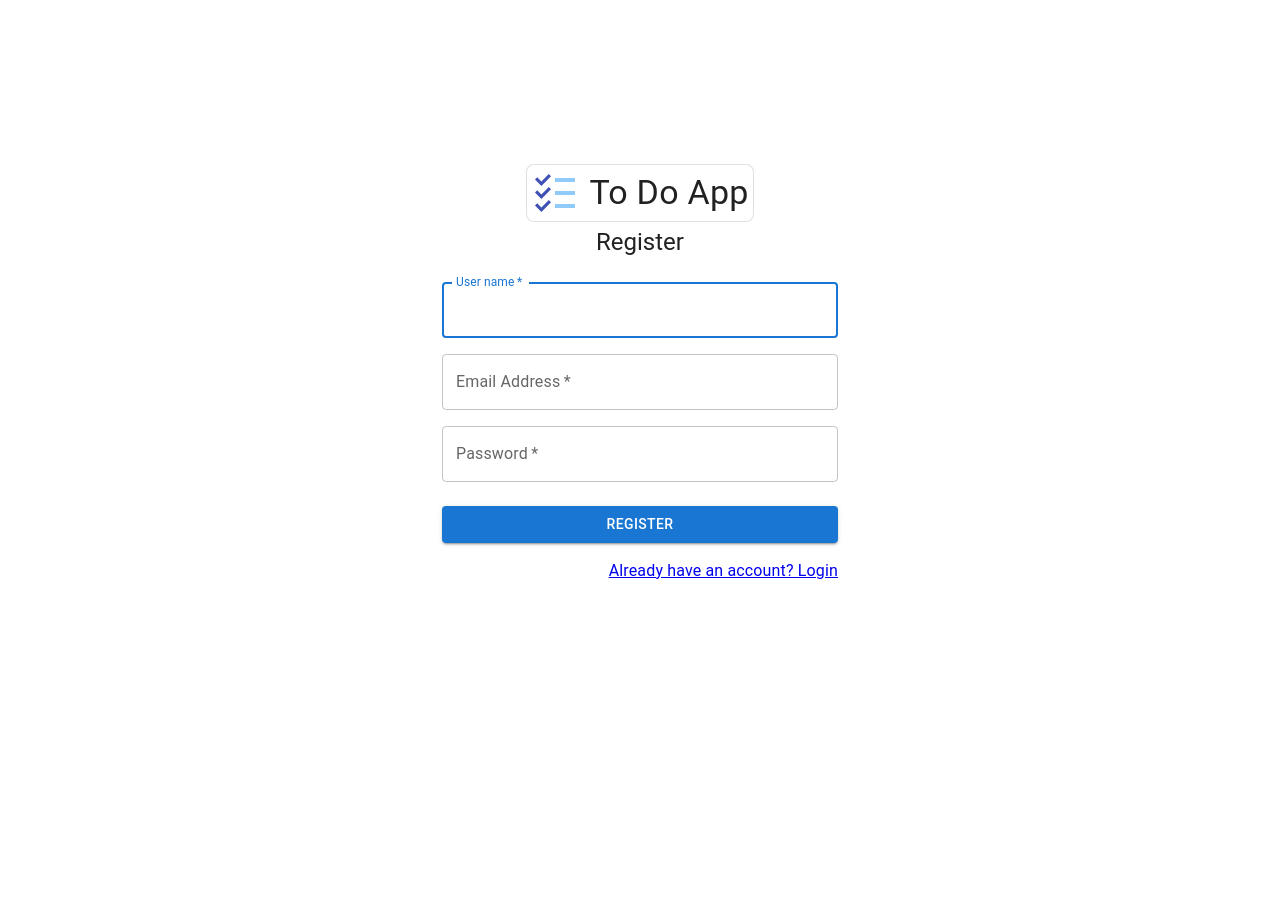
Test: Register Component › should show success message on successful registration
Type "testuser" into the field labelled "User name *" at (640, 310), box x1=442 y1=282 x2=838 y2=338
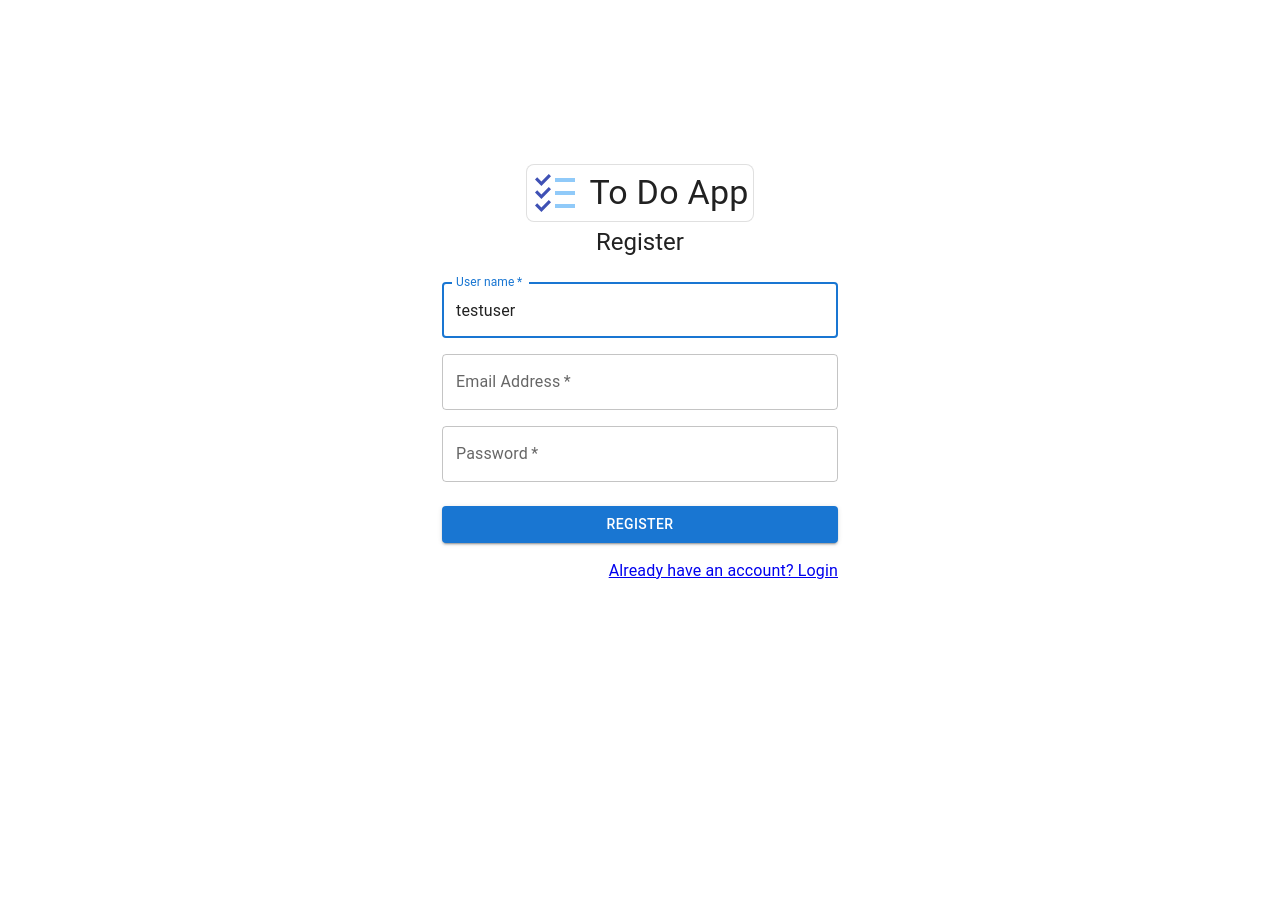
Type "test@example.com" into the field labelled "Email Address *" at (640, 382), box x1=442 y1=354 x2=838 y2=410
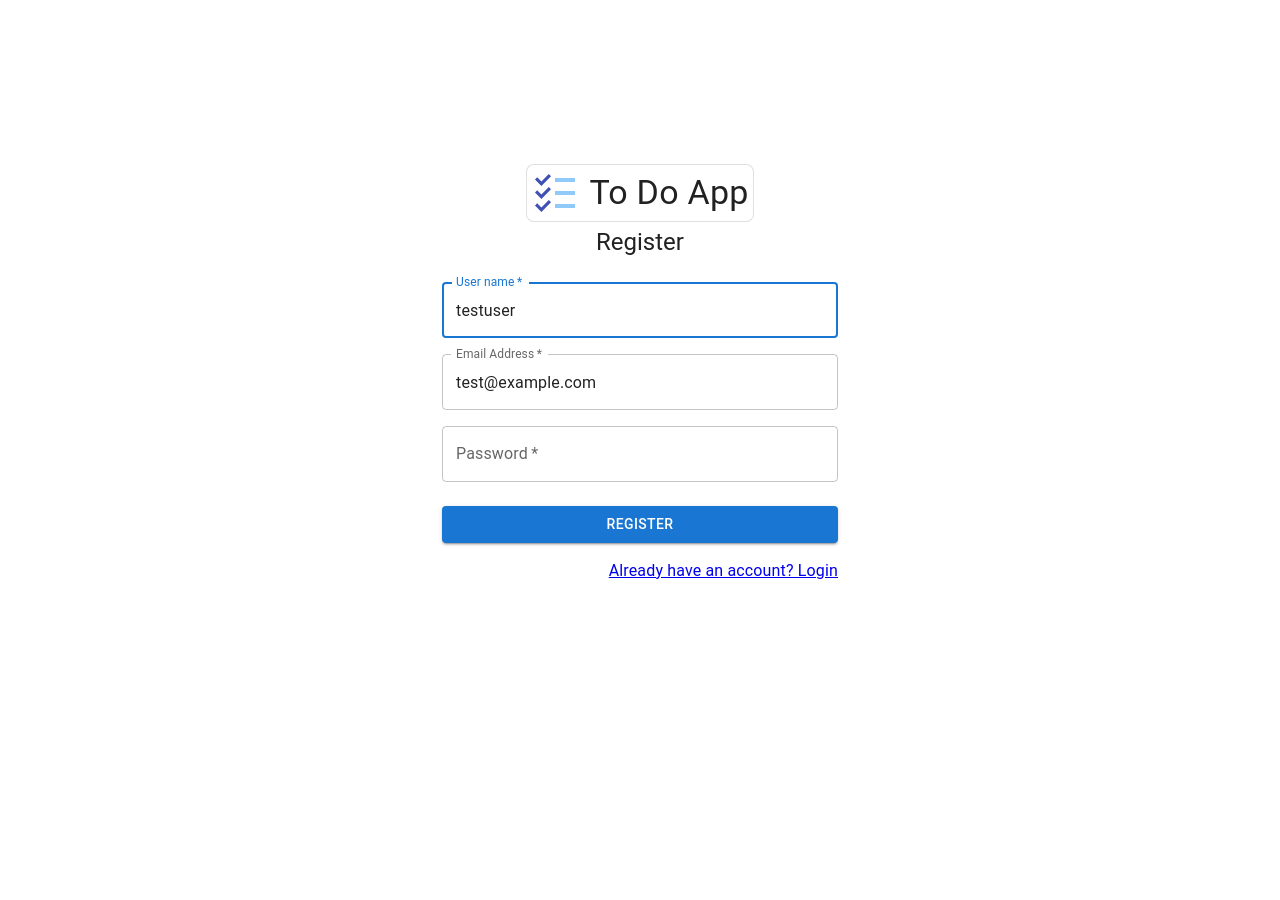
Type "password" into the password field labelled "Password *" at (640, 454), box x1=442 y1=426 x2=838 y2=482
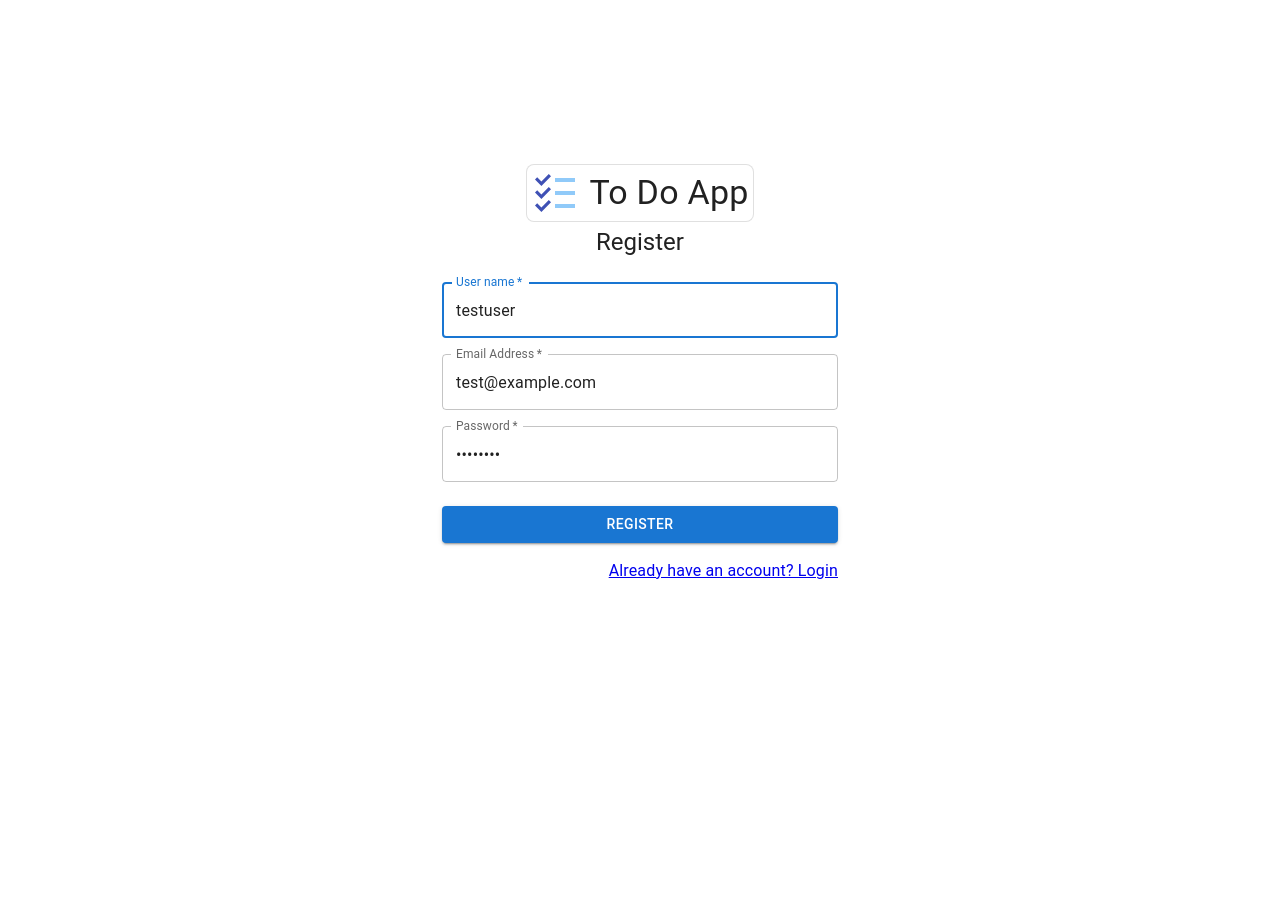
Click the button "Register" at (640, 524), box x1=442 y1=506 x2=838 y2=542
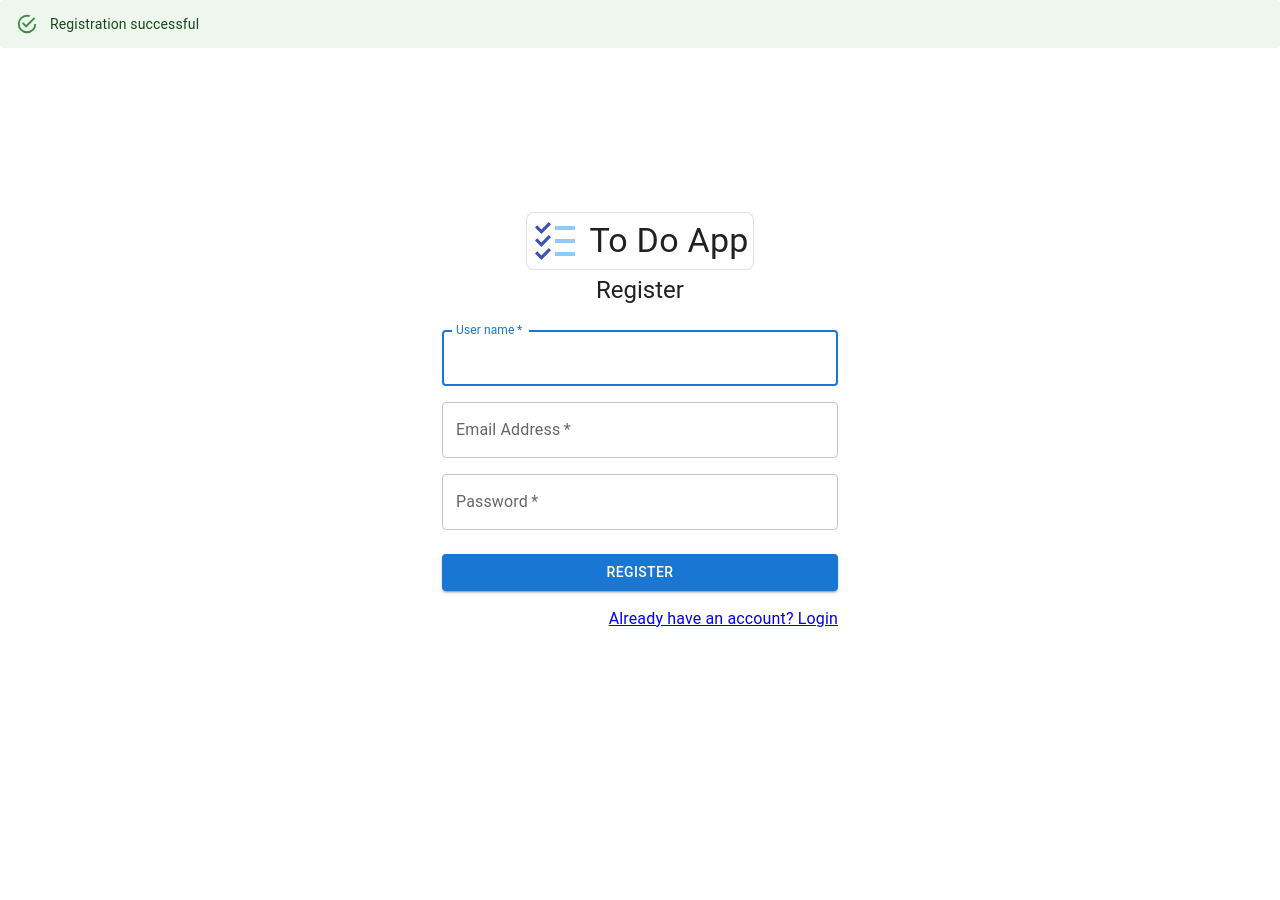
Check: the text "Registration successful" is shown, box x1=50 y1=16 x2=199 y2=32
